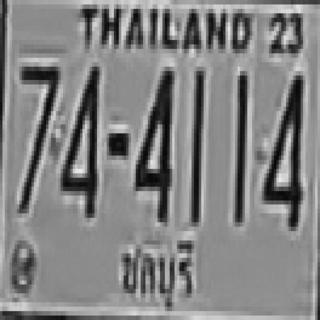N01: (233, 71, 247, 222), (190, 67, 202, 222)
N04: (58, 62, 99, 213), (262, 71, 301, 227), (133, 64, 172, 220)
N07: (19, 62, 58, 209)
P13: (116, 232, 196, 311)
